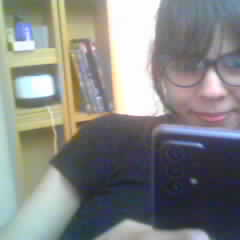without_mask: (166, 28, 240, 127)
